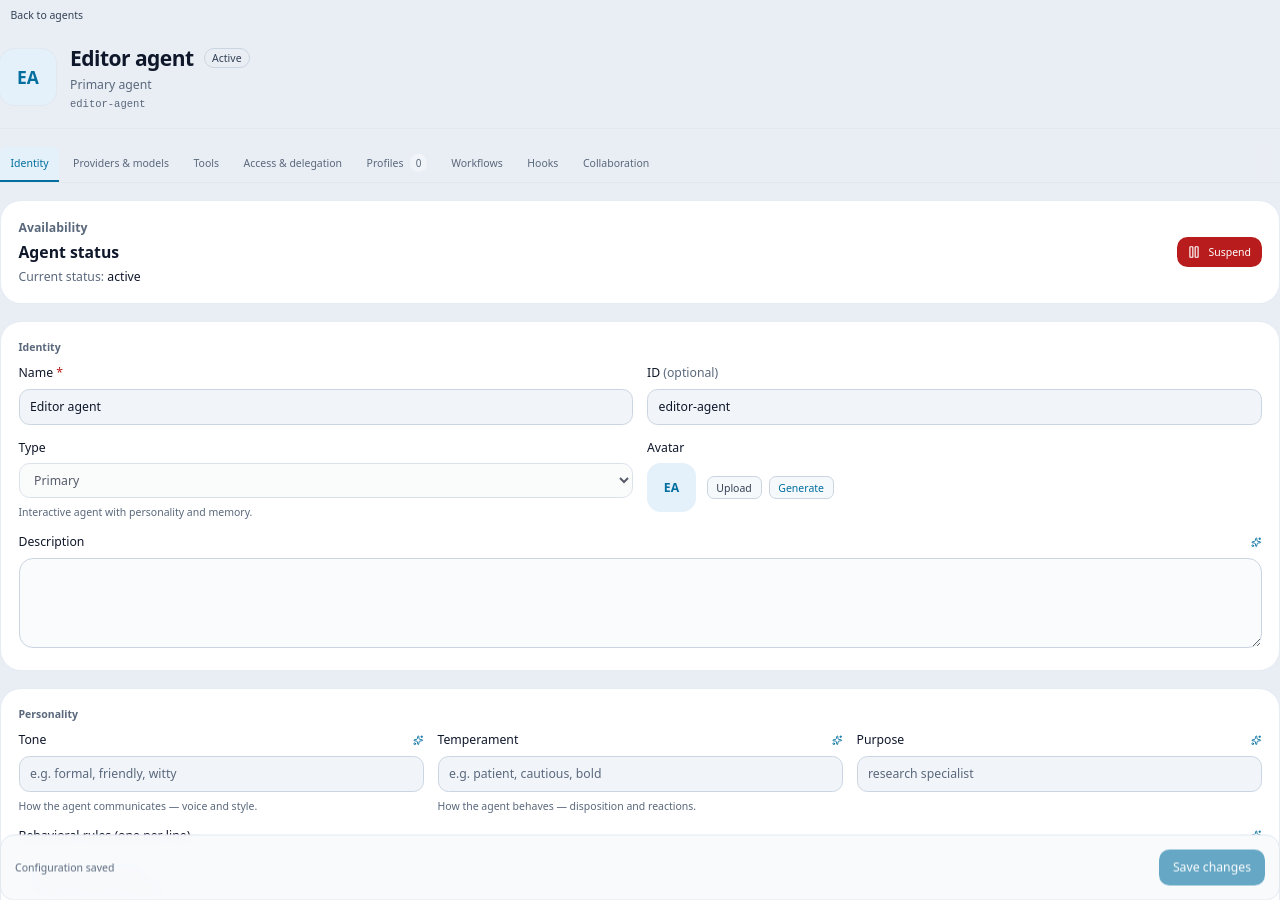
Test: agent detail tabs and save boundaries › defers hooks, sharing, project assignments and tool previews until their tabs open
Expected: the field with placeholder "Research Assistant" is shown, top-left (18, 388), bottom-right (633, 424)
Expected: the button "Save changes" is disabled, top-left (1159, 849), bottom-right (1265, 885)
Click the tab "Collaboration" at (616, 164), box top-left (572, 146), bottom-right (660, 182)
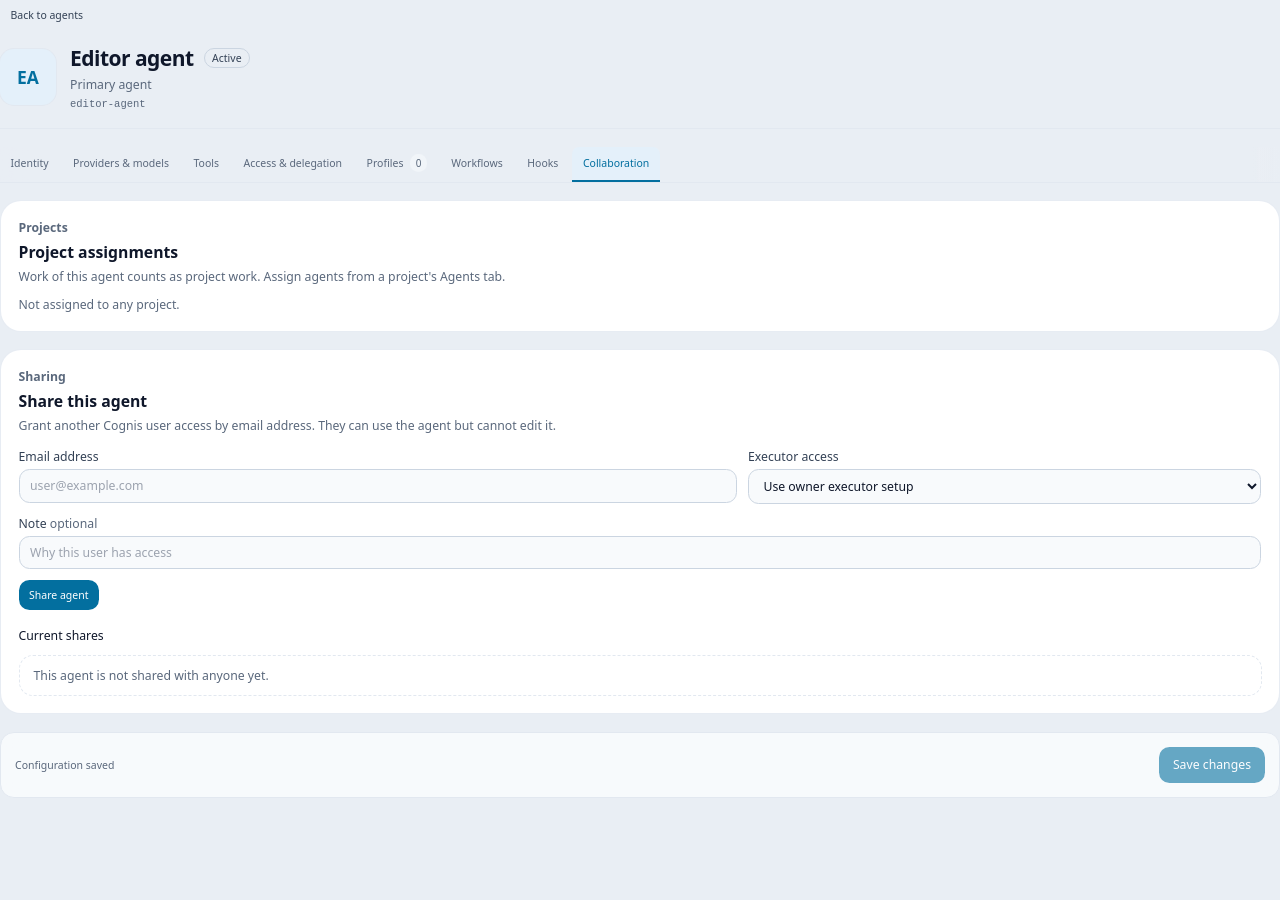
Now the heading "Project assignments" is shown, box top-left (18, 240), bottom-right (178, 262)
Click the tab "Hooks" at (543, 164), box top-left (517, 146), bottom-right (569, 182)
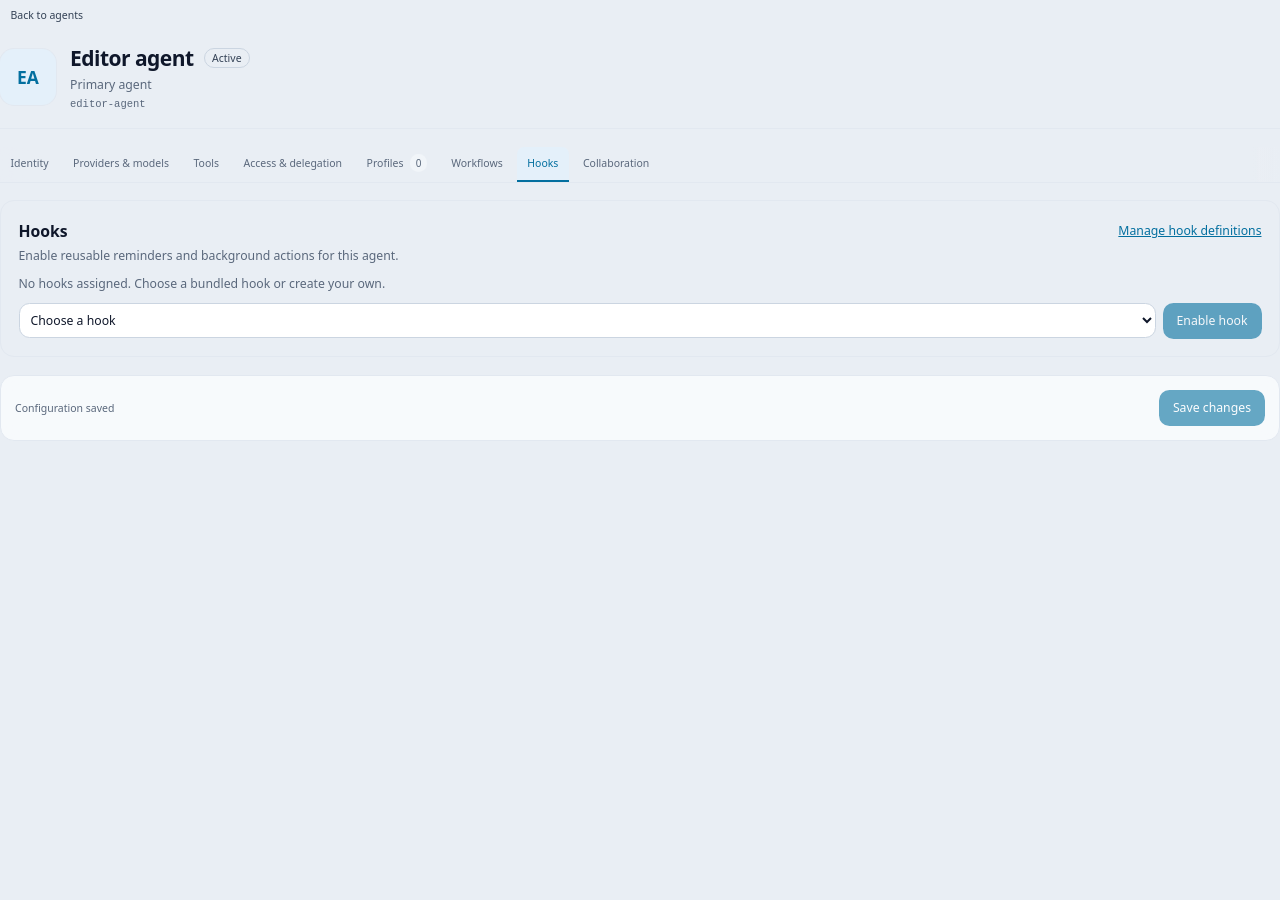
Now the text "No hooks assigned. Choose a bundled hook or create your own." is shown, box top-left (18, 274), bottom-right (385, 292)
Click the tab "Identity" at (30, 164), box top-left (0, 146), bottom-right (59, 182)
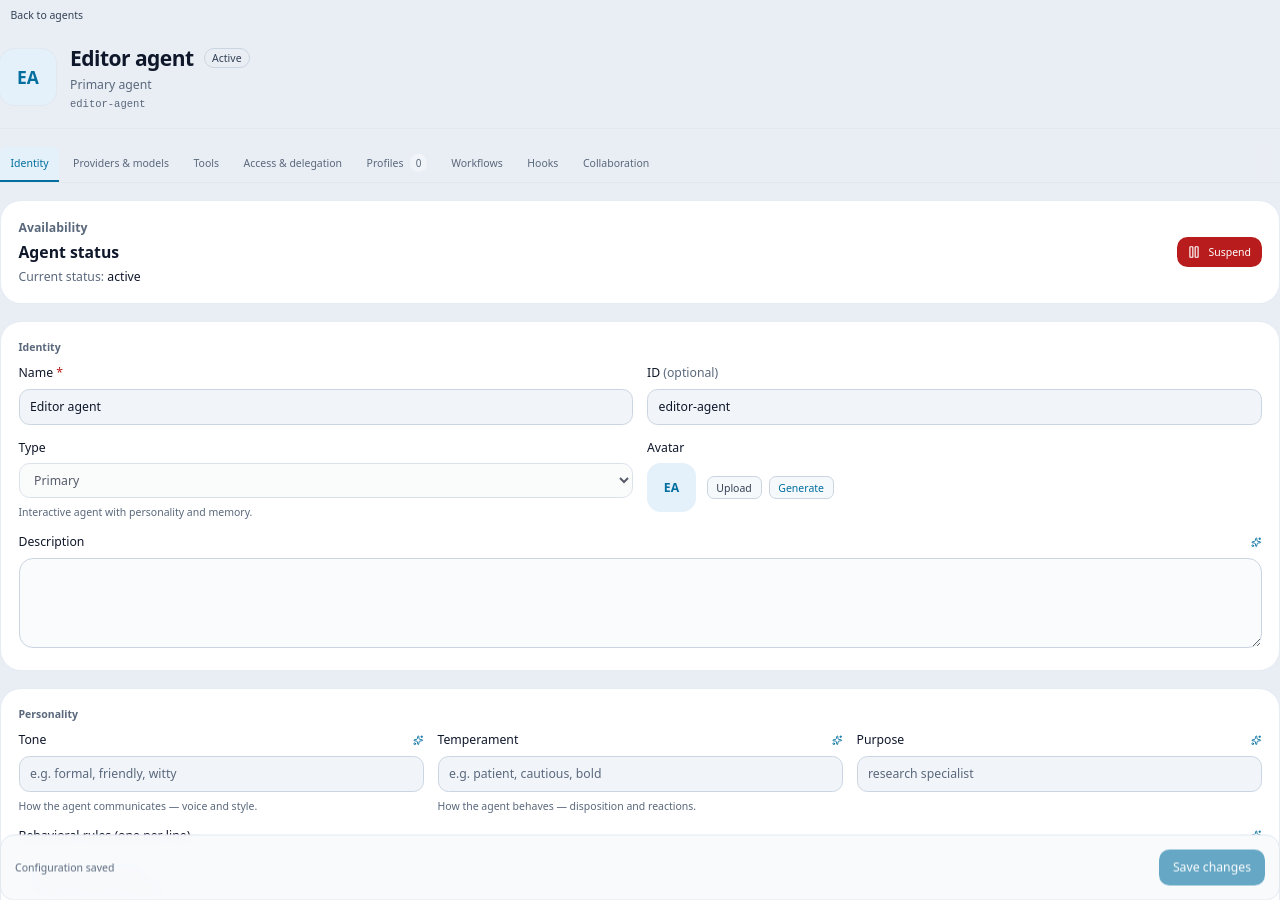
Click the tab "Hooks" at (543, 164), box top-left (517, 146), bottom-right (569, 182)
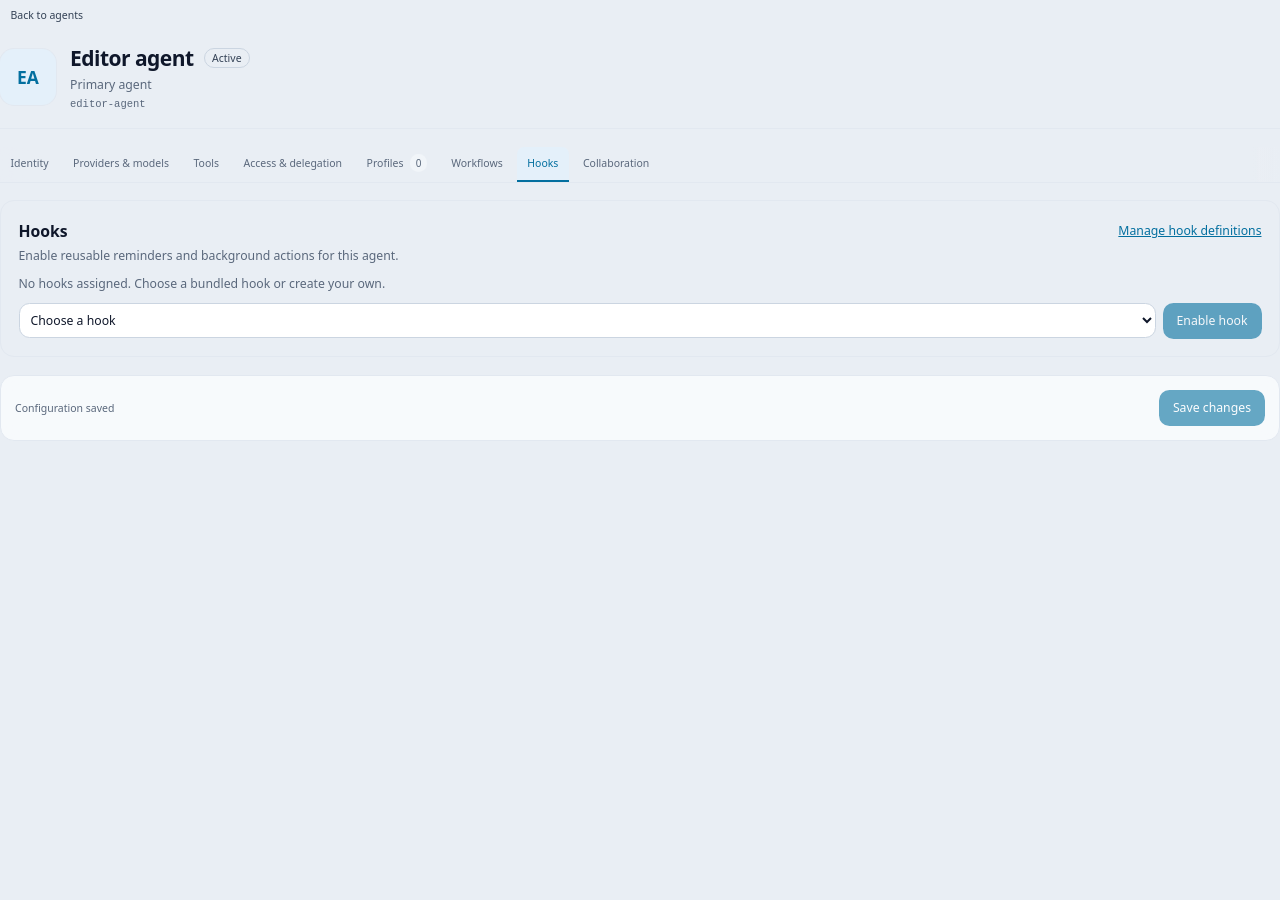
Now the number of panels is 1, box top-left (0, 200), bottom-right (1279, 357)
